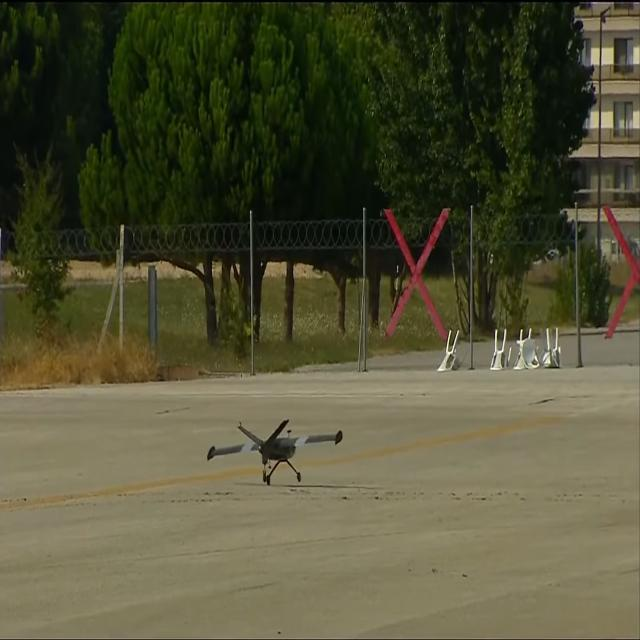iha: (210, 447, 339, 453)
